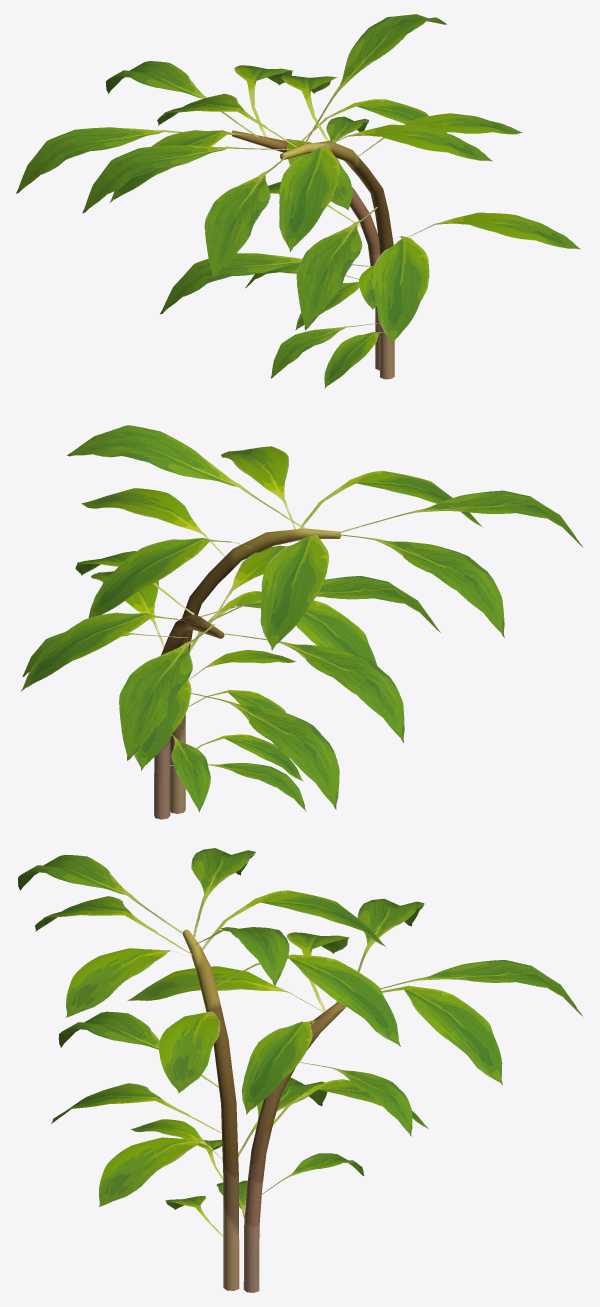
The model's file is Planta2.fbx.
The picture shows the model from 3 angles, top to bottom: view 1: azimuth 30°, elevation 25°; view 2: azimuth 150°, elevation 25°; view 3: azimuth 270°, elevation 25°; orthographic projection. The views are drawn at different scales.
Visible parts, largest first — view 1: Cylinder002; view 2: Cylinder002; view 3: Cylinder002.
Boxes of the visible parts, x1,y1,x2,y2 form: Cylinder002: (16, 14, 580, 388); Cylinder002: (21, 425, 583, 819); Cylinder002: (18, 848, 582, 1292).
Bounding box in the file's own units: 127 × 94.55 × 132.
